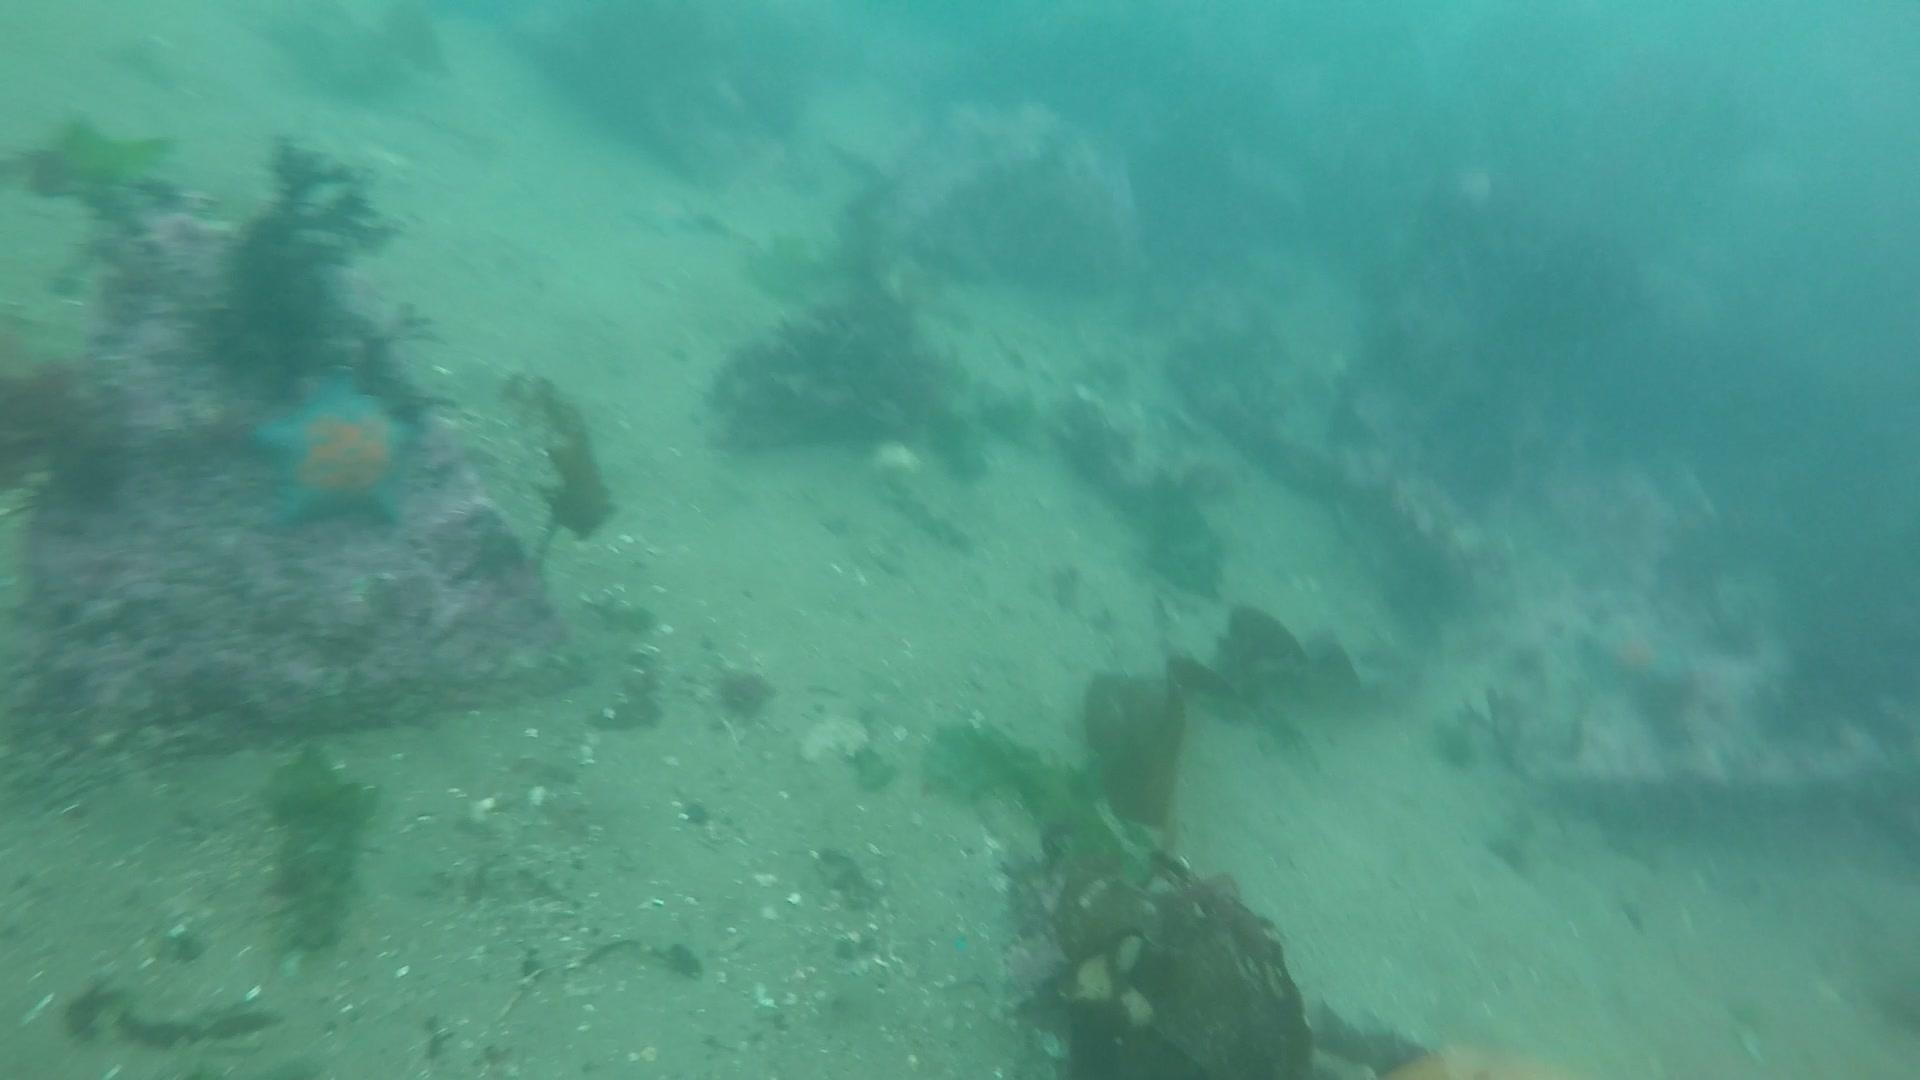holothurian: (255, 746, 378, 960)
starfish: (244, 367, 431, 537), (1575, 603, 1697, 708), (616, 179, 731, 245)
